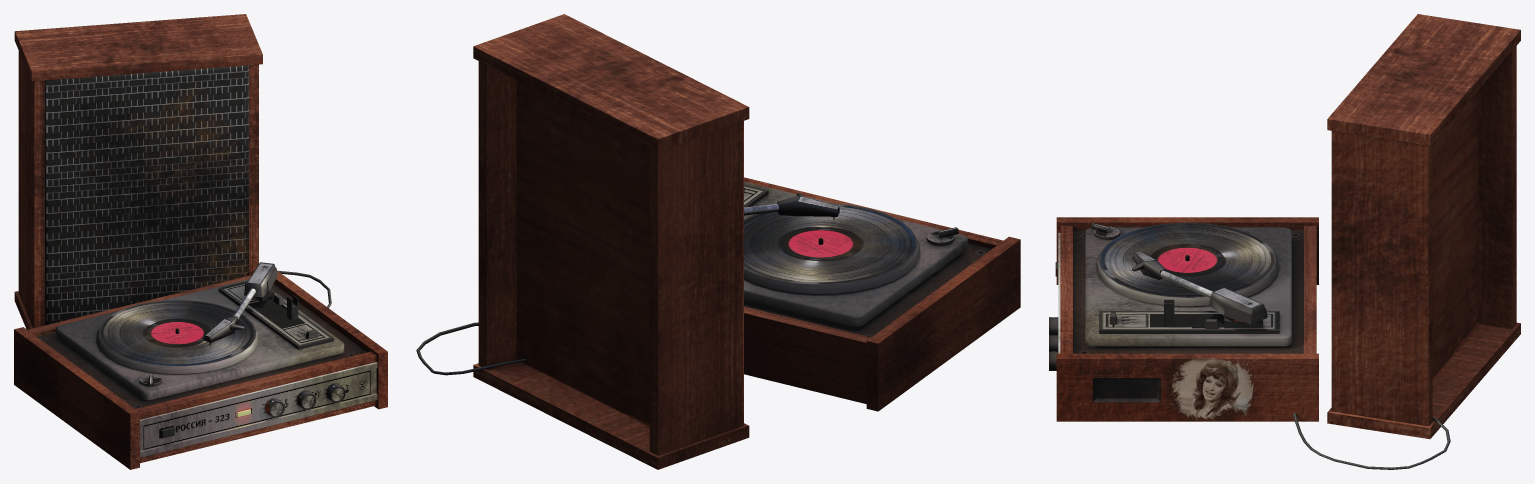
The model's file is Recplayer.glb.
3 views of the same model, side by side, from view 1: azimuth 30°, elevation 25°; view 2: azimuth 150°, elevation 25°; view 3: azimuth 270°, elevation 25° (orthographic). The views are drawn at different scales.
Visible parts, largest first — view 1: RS323; view 2: RS323; view 3: RS323.
Boxes of the visible parts, x1,y1,x2,y2 form: RS323: (14,14,387,469); RS323: (416,14,1020,469); RS323: (1049,14,1520,469).
Bounding box in the file's own units: 11.72 × 8.92 × 12.51.
1 material, 1 textured.
